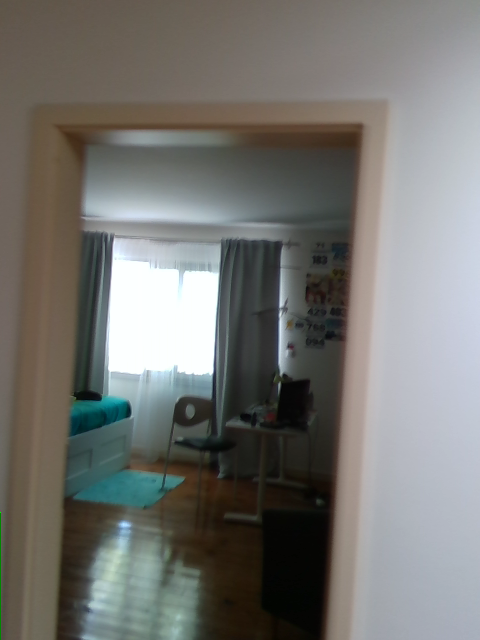open: (0, 101, 392, 639)
